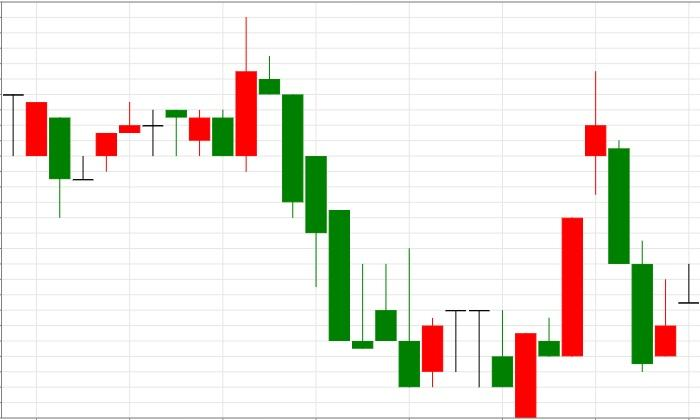bullish_engulfing_rise: (166, 17, 257, 171)
